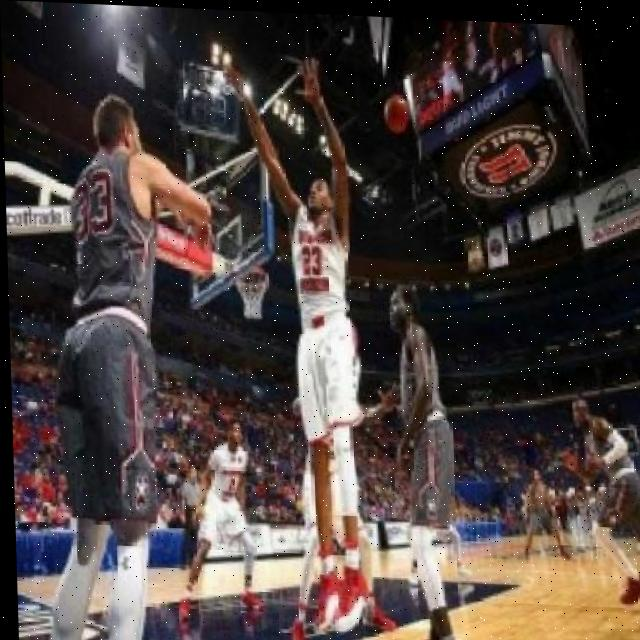basketball: (385, 96, 409, 131)
hoop: (236, 263, 272, 322)
